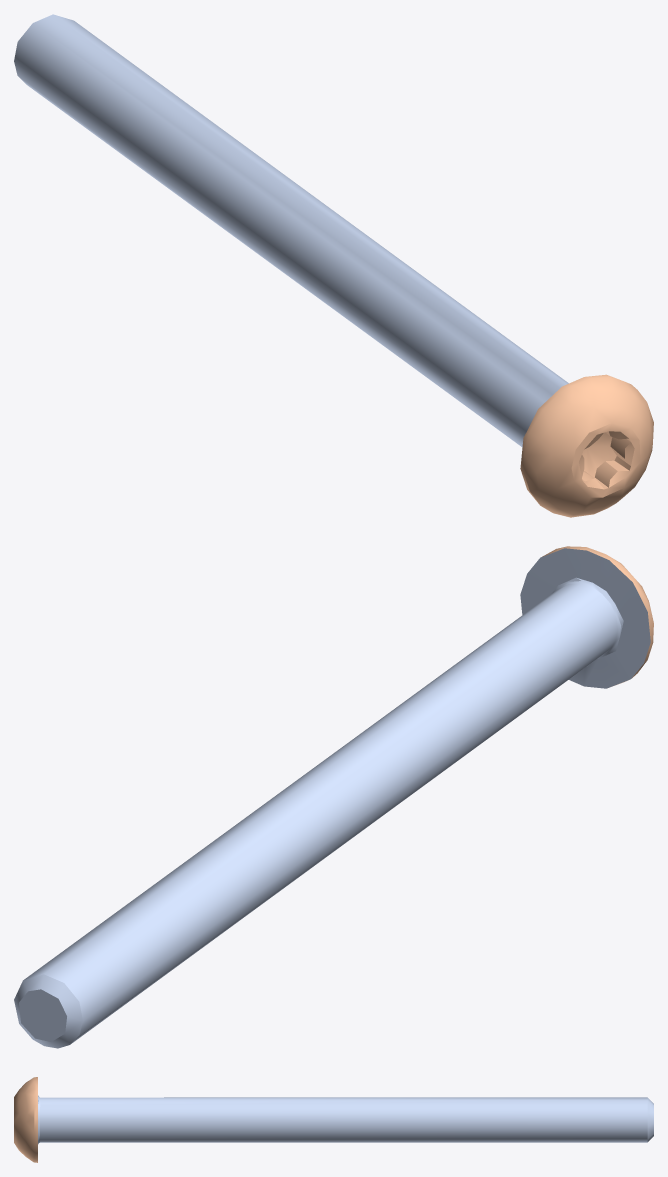
The model's file is Colored__8-32_x_2_250_Star_Drive_Screw__276-8015__001.glb.
The picture shows the model from 3 angles, top to bottom: view 1: azimuth 30°, elevation 25°; view 2: azimuth 150°, elevation 25°; view 3: azimuth 270°, elevation 25°; orthographic projection. The views are drawn at different scales.
Parts seen in each view (by area): view 1: Colored #8-32 x 2.250 Star Drive Screw (276-8015).001; view 2: Colored #8-32 x 2.250 Star Drive Screw (276-8015).001; view 3: Colored #8-32 x 2.250 Star Drive Screw (276-8015).001.
Boxes of the visible parts, x1,y1,x2,y2 form: Colored #8-32 x 2.250 Star Drive Screw (276-8015).001: [14, 14, 653, 517]; Colored #8-32 x 2.250 Star Drive Screw (276-8015).001: [14, 546, 653, 1048]; Colored #8-32 x 2.250 Star Drive Screw (276-8015).001: [14, 1077, 653, 1162].
Size of the model in its own units: 0.3123 by 0.3131 by 2.34.
